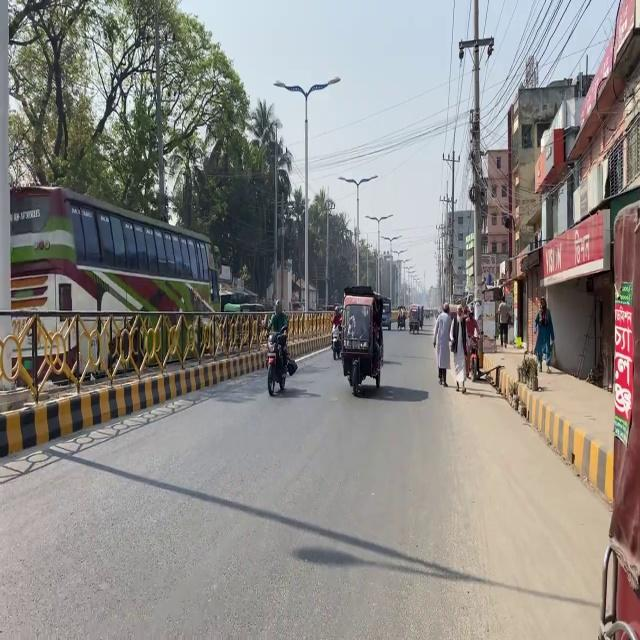Construction-barrier: (50, 378, 206, 422)
Fallen-tree: (264, 326, 297, 396), (330, 321, 342, 360), (408, 317, 420, 334)
Garbage-bin: (264, 300, 293, 374), (532, 296, 555, 373), (496, 296, 511, 347)
Pole: (0, 296, 238, 444)
Pothole: (496, 336, 631, 502)
Traffic-cone: (16, 168, 226, 340), (338, 284, 384, 396)
